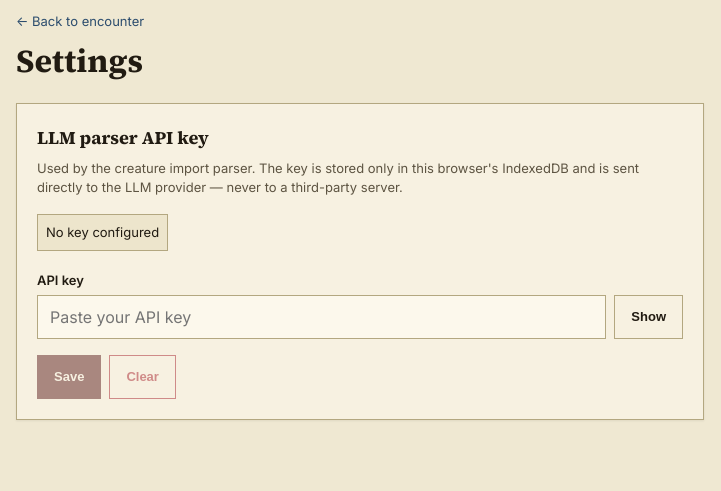
settings page — Save › Save persists the trimmed key, clears the input, and shows success feedback
Expected: the text "No key configured" is shown, top-left (37, 214), bottom-right (168, 251)
Type "  sk-fresh-key  " into the password field labelled "API key".
click(322, 317); type("  sk-fresh-key  ")  # box top-left (37, 295), bottom-right (606, 339)
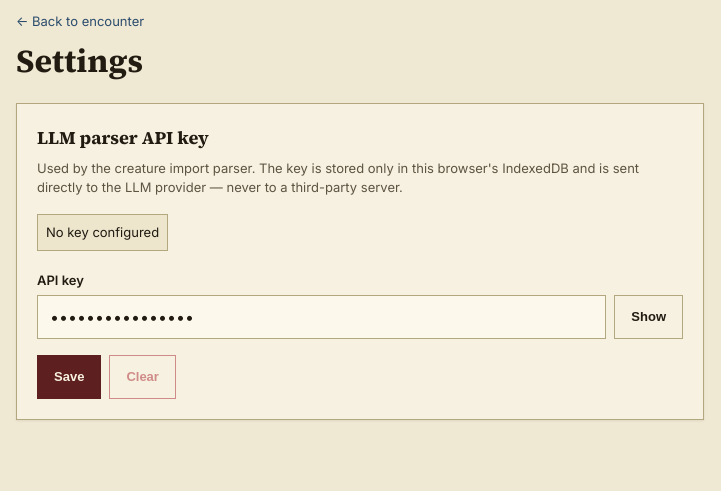
Click the button "Save".
click(69, 377)  # box top-left (37, 355), bottom-right (101, 399)
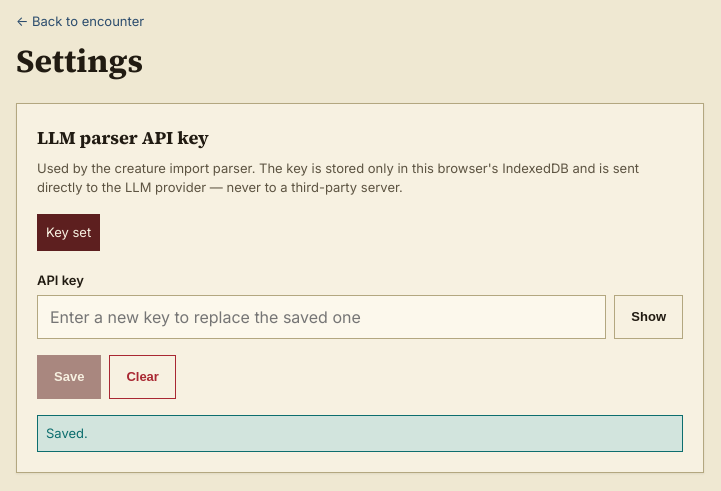
Result: the text "Saved." is shown at top-left (37, 415), bottom-right (683, 452)
Result: the password field labelled "API key" is empty at top-left (37, 295), bottom-right (606, 339)
Result: the text "Key set" is shown at top-left (37, 214), bottom-right (100, 251)
